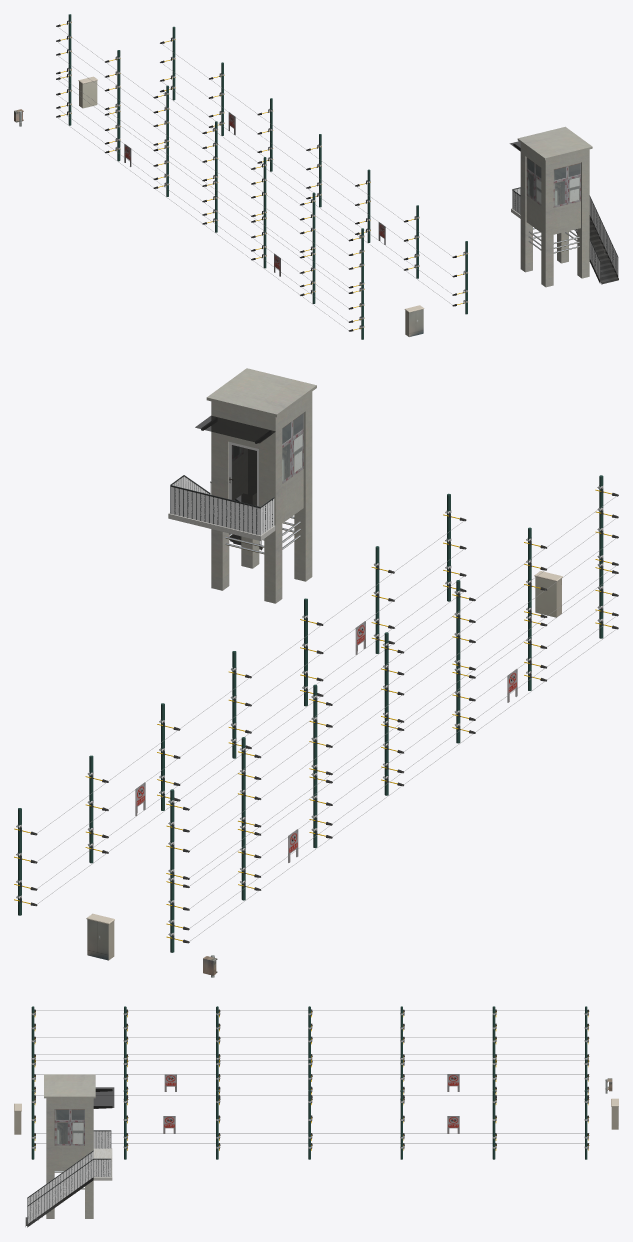
The model's file is CeShiChangSheBei.FBX.
The picture shows the model from 3 angles, top to bottom: view 1: azimuth 30°, elevation 25°; view 2: azimuth 150°, elevation 25°; view 3: azimuth 270°, elevation 25°; orthographic projection. The views are drawn at different scales.
Visible parts, largest first — view 1: Box166, CeShiChangLiGan006, CeShiChangLiGan007, CeShiChangLiGan003, CeShiChangLiGan002, CeShiChangLiGan001, CeShiChangLiGan004, CeShiChangLiGan005, Box848, Box168; view 2: Box166, Box168, CeShiChangLiGan003, CeShiChangLiGan005, CeShiChangLiGan007, CeShiChangLiGan001, CeShiChangLiGan004, CeShiChangLiGan006, Box848, CeShiChangLiGan002; view 3: Box166, Line008, Line034, Line035, Line036, Line032, Line039, Line031, Line037, CeShiChangLiGan001, CeShiChangLiGan006, CeShiChangLiGan005 (+4 smaller).
Part boxes in pixels (box(x1,y1,x2,y2)): Box166: box(509, 126, 618, 287); CeShiChangLiGan006: box(105, 50, 120, 161); CeShiChangLiGan007: box(56, 14, 71, 125); CeShiChangLiGan003: box(251, 157, 266, 268); CeShiChangLiGan002: box(299, 192, 315, 303); CeShiChangLiGan001: box(348, 228, 364, 339); CeShiChangLiGan004: box(202, 121, 218, 232); CeShiChangLiGan005: box(153, 85, 169, 196); Box848: box(404, 305, 424, 336); Box168: box(78, 76, 97, 108); Box166: box(168, 368, 316, 603); Box168: box(86, 913, 114, 960); CeShiChangLiGan003: box(452, 580, 475, 743); CeShiChangLiGan005: box(309, 684, 332, 848); CeShiChangLiGan007: box(166, 789, 189, 952); CeShiChangLiGan001: box(595, 475, 618, 638); CeShiChangLiGan004: box(381, 632, 404, 795); CeShiChangLiGan006: box(238, 737, 261, 900); Box848: box(534, 571, 562, 617); CeShiChangLiGan002: box(524, 527, 547, 690); Box166: box(25, 1074, 114, 1227); Line008: box(36, 1010, 589, 1010); Line034: box(36, 1037, 589, 1037); Line035: box(36, 1054, 589, 1054); Line036: box(36, 1060, 589, 1060); Line032: box(36, 1143, 589, 1143); Line039: box(36, 1095, 589, 1095); Line031: box(36, 1133, 589, 1133); Line037: box(36, 1074, 589, 1074); CeShiChangLiGan001: box(31, 1006, 35, 1097); CeShiChangLiGan006: box(492, 1006, 496, 1097); CeShiChangLiGan005: box(400, 1006, 404, 1099).
Size of the model in its own units: 1630 by 689 by 3058.
